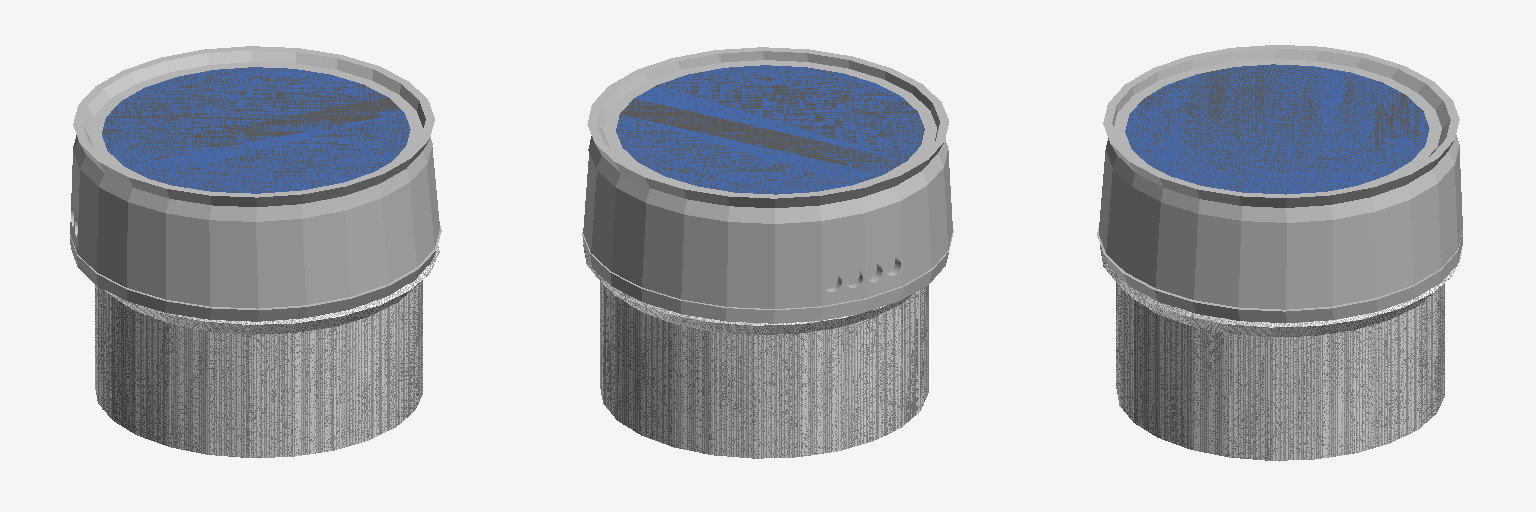
The picture shows the model from 3 angles: view 1: azimuth 30°, elevation 25°; view 2: azimuth 150°, elevation 25°; view 3: azimuth 270°, elevation 25°; orthographic projection.
Visible parts, largest first — view 1: mesh1.001_mesh1-geometry, mesh3.001_mesh3-geometry, mesh2.001_mesh2-geometry, mesh4.001_mesh4-geometry; view 2: mesh1.001_mesh1-geometry, mesh3.001_mesh3-geometry, mesh2.001_mesh2-geometry, mesh4.001_mesh4-geometry; view 3: mesh1.001_mesh1-geometry, mesh3.001_mesh3-geometry, mesh2.001_mesh2-geometry, mesh4.001_mesh4-geometry.
Boxes of the visible parts, box(x1,y1,x2,y2) form: mesh1.001_mesh1-geometry: box(70, 46, 439, 308); mesh3.001_mesh3-geometry: box(95, 280, 422, 457); mesh2.001_mesh2-geometry: box(70, 226, 441, 321); mesh4.001_mesh4-geometry: box(105, 246, 439, 334); mesh1.001_mesh1-geometry: box(583, 47, 952, 308); mesh3.001_mesh3-geometry: box(600, 282, 928, 458); mesh2.001_mesh2-geometry: box(582, 230, 953, 323); mesh4.001_mesh4-geometry: box(583, 244, 913, 334); mesh1.001_mesh1-geometry: box(1099, 45, 1462, 309); mesh3.001_mesh3-geometry: box(1116, 283, 1444, 460); mesh2.001_mesh2-geometry: box(1097, 228, 1462, 322); mesh4.001_mesh4-geometry: box(1100, 245, 1461, 336).
Size of the model in its own units: 0.6218 by 0.4916 by 0.6096.
Materials: 5 (1 with a texture image).